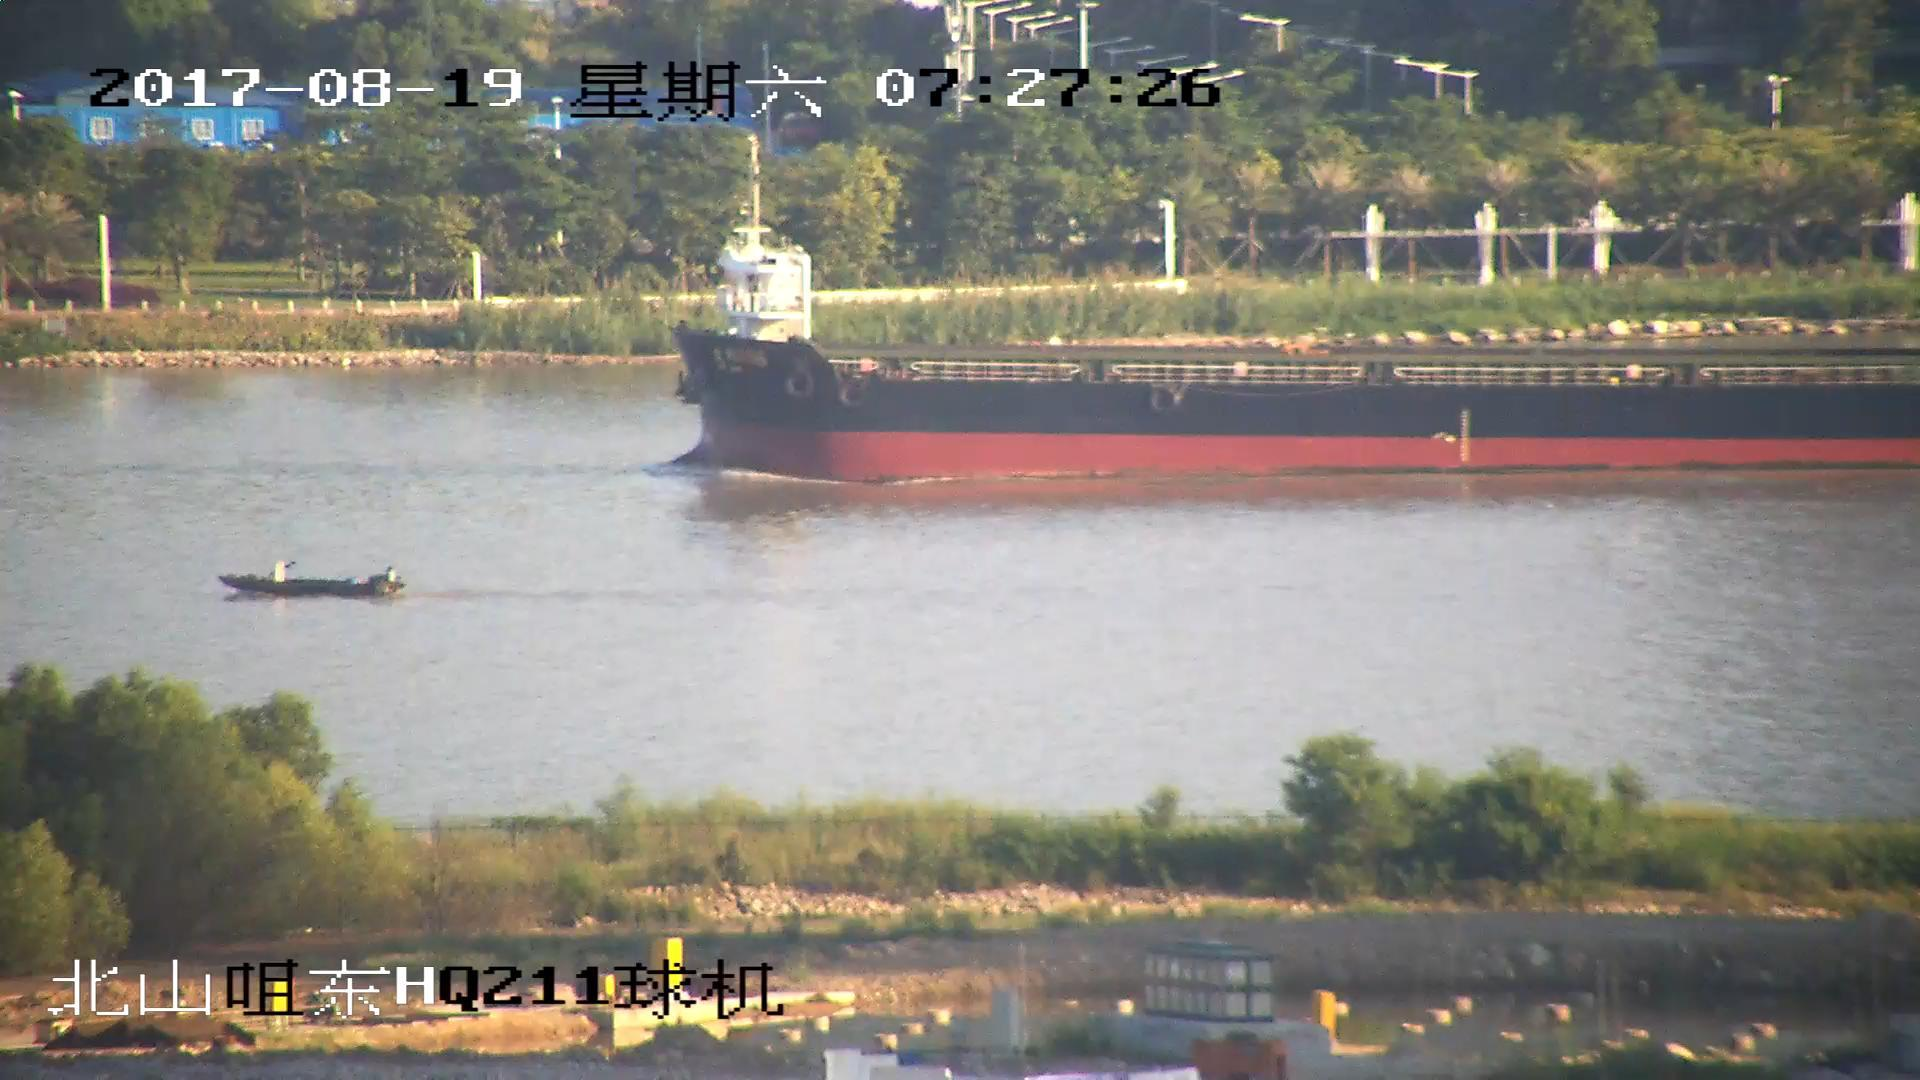Ship: (680, 227, 1920, 479), (222, 560, 404, 607)
